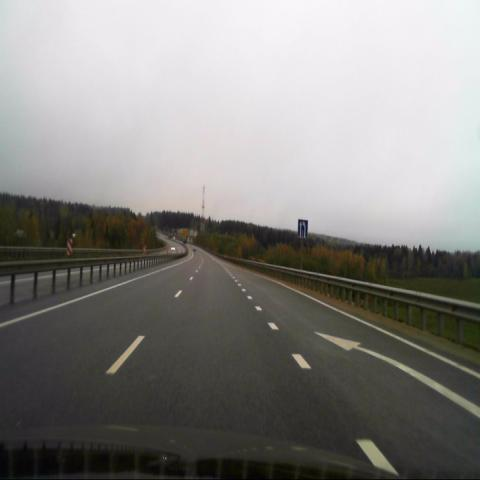5_15_5: (298, 219, 308, 238)
